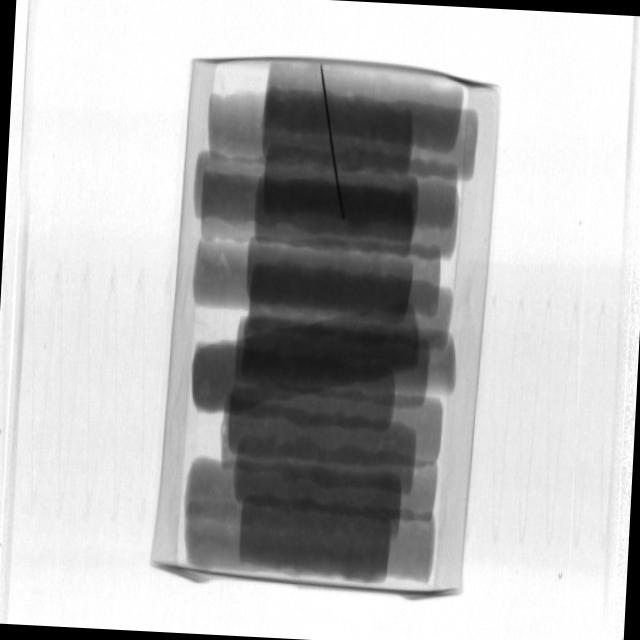ym: (312, 57, 357, 223)
